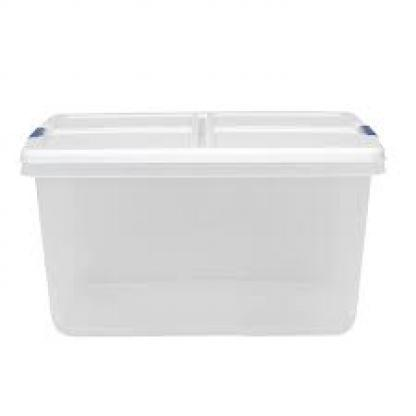plastic_box: (15, 100, 390, 349)
